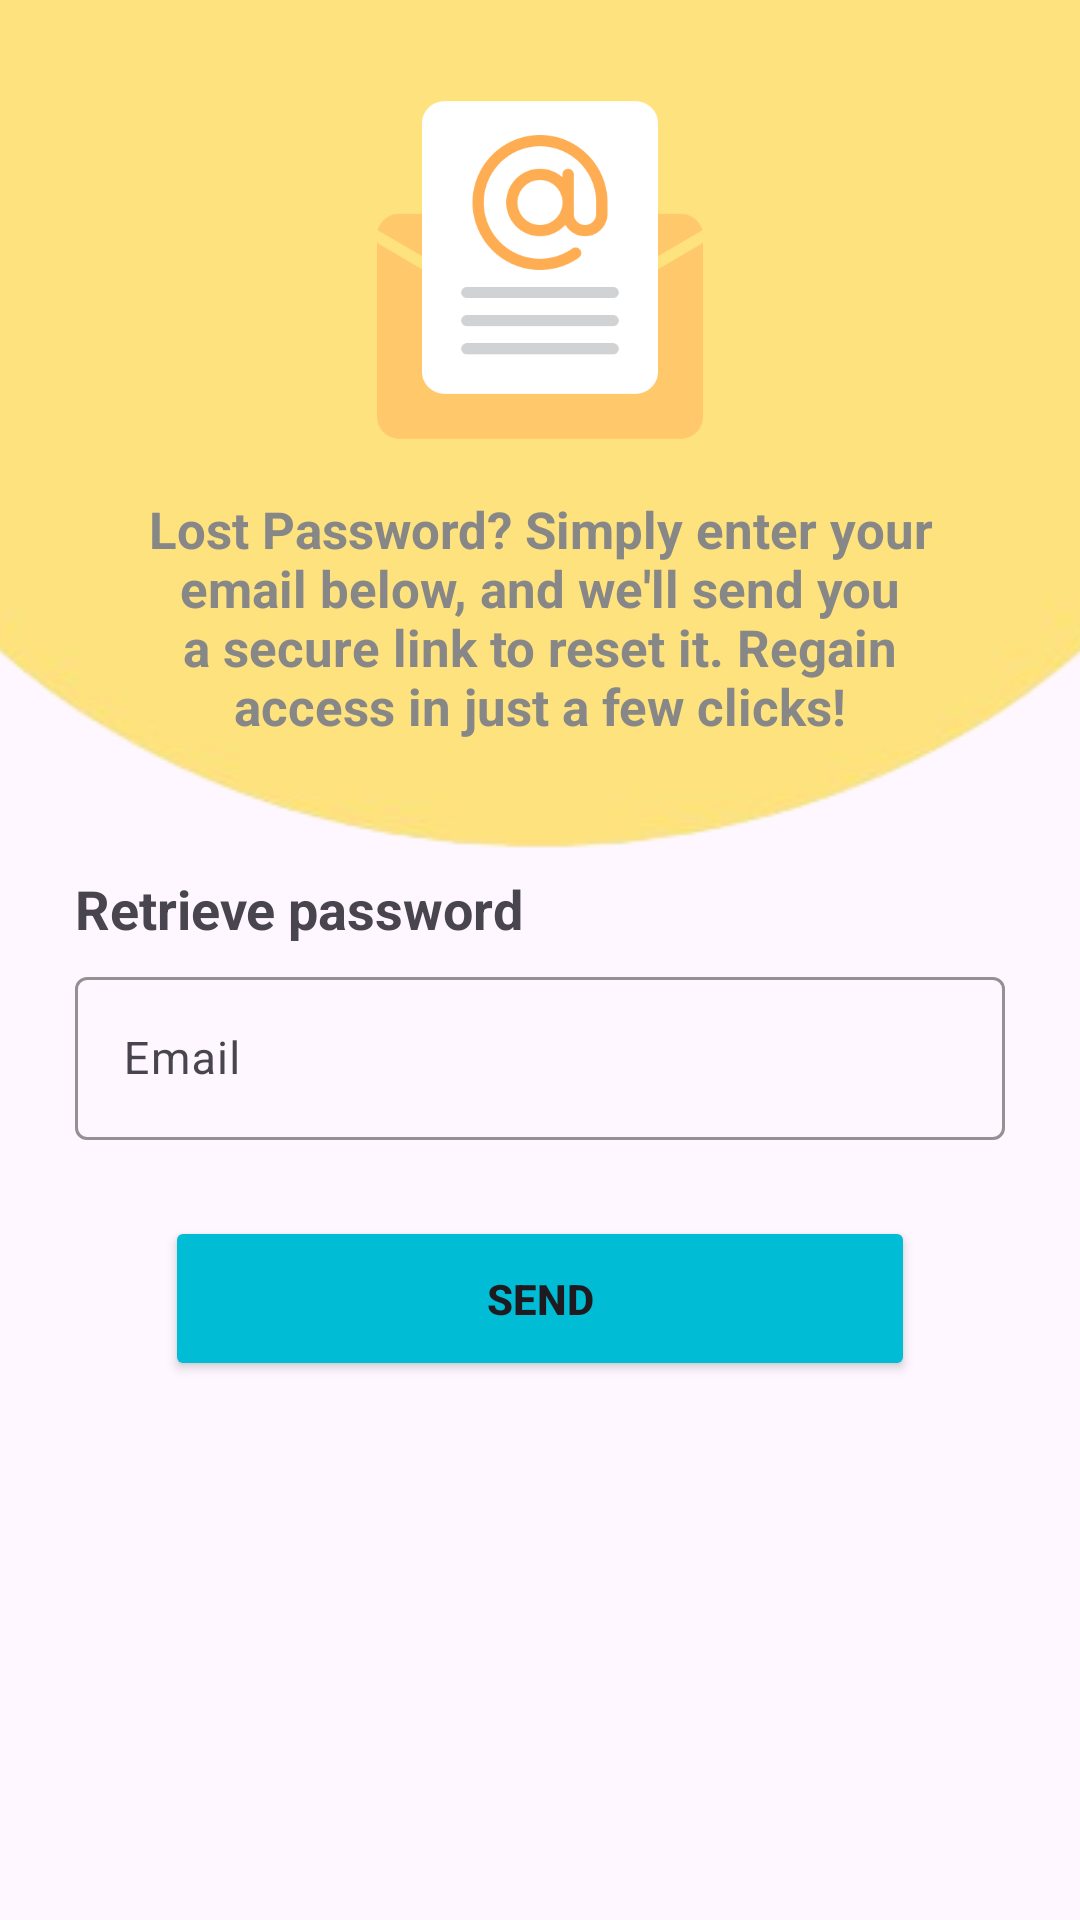

Where to tap for icons on this 1080x1920 app screen, as (x=x, y=y):
emailadd: (x=540, y=269)
